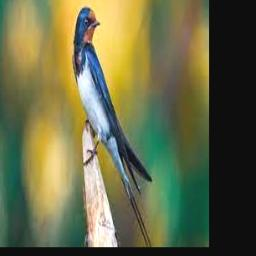Swallow: (74, 7, 152, 247)
